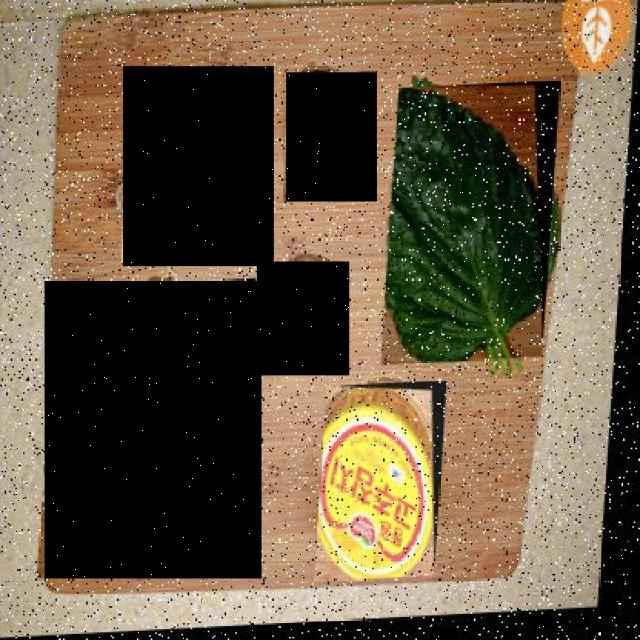Egg: (258, 262, 350, 376)
Onion: (286, 73, 377, 202)
Onion_Leaves: (124, 67, 274, 267)
noodle: (45, 280, 262, 578)
